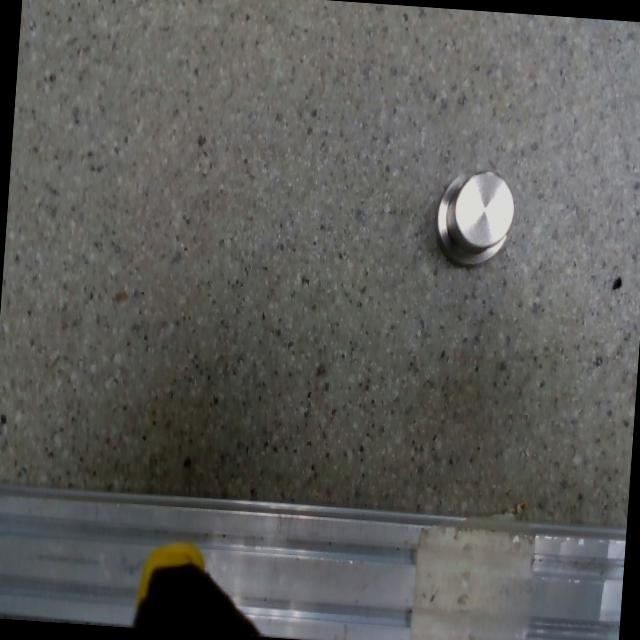sensor: (431, 163, 518, 269)
